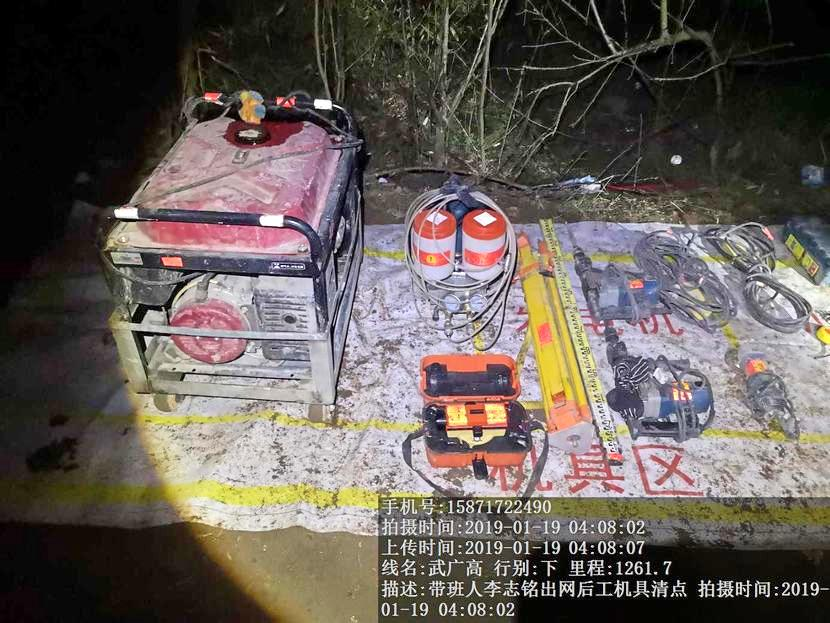DJ: (93, 83, 373, 419)
DMJ: (724, 349, 803, 441)
DX: (715, 217, 809, 331)
DZ: (601, 335, 722, 441), (565, 231, 669, 326)
